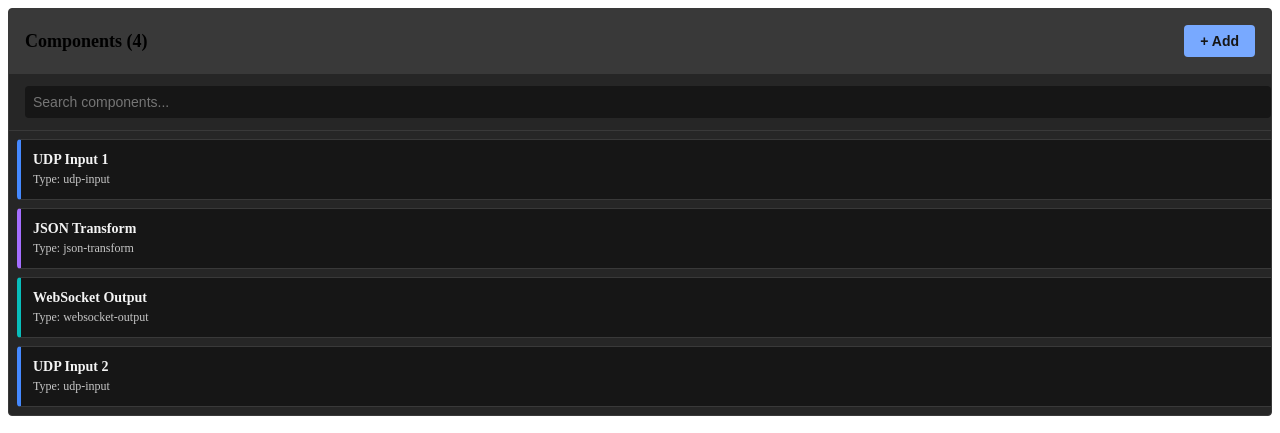
Test: ComponentList › search and filter › should show all nodes when search is cleared
Type "UDP" into the field with placeholder "Search components...".
click(648, 102); type("UDP")  # box [25, 86, 1271, 118]
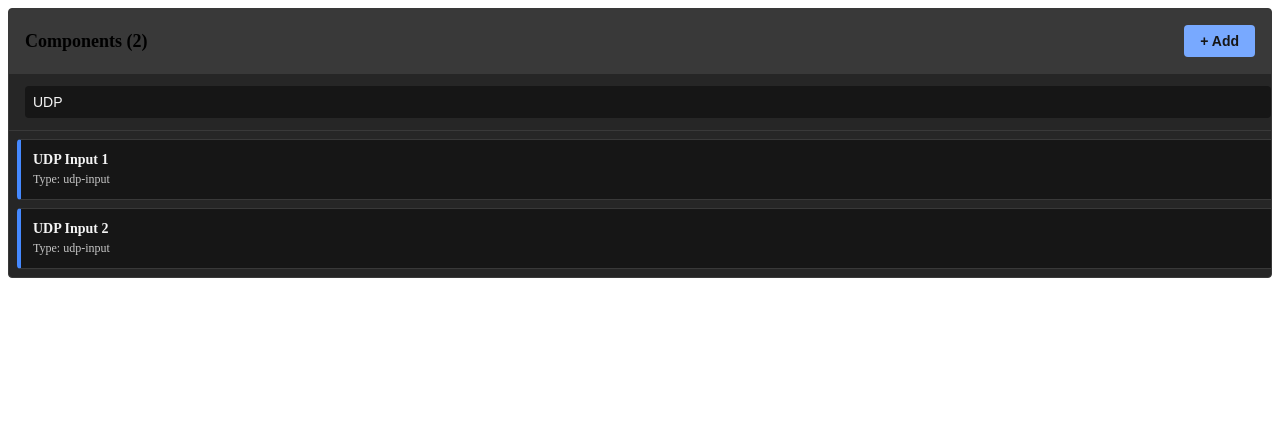
Expected: the button "JSON Transform" is gone
# Clear filter
Clear the field with placeholder "Search components..." at (648, 102), box [25, 86, 1271, 118]
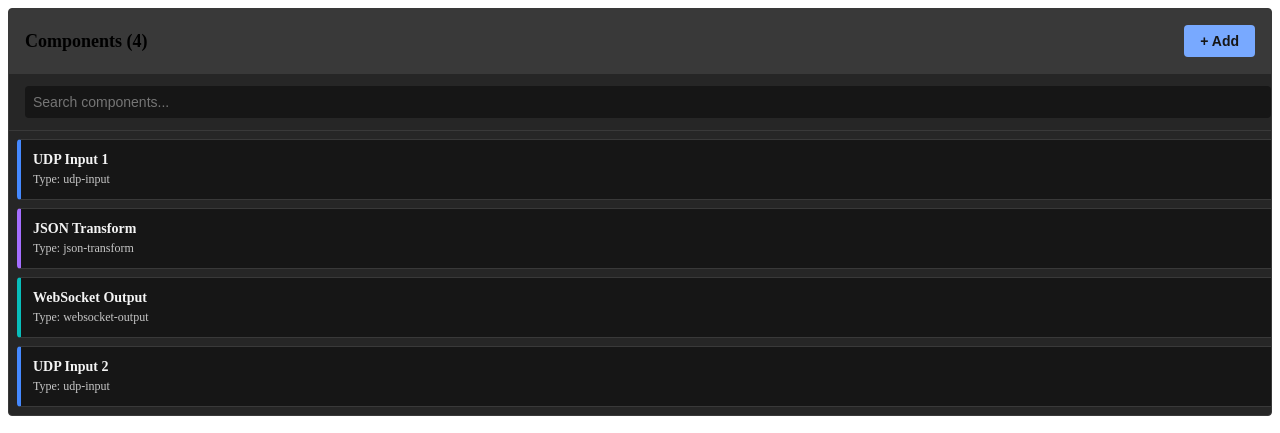
Expected: the heading "UDP Input 1" is shown, [33, 152, 108, 168]
Expected: the heading "JSON Transform" is shown, [33, 221, 136, 237]
Expected: the heading "WebSocket Output" is shown, [33, 290, 147, 306]
